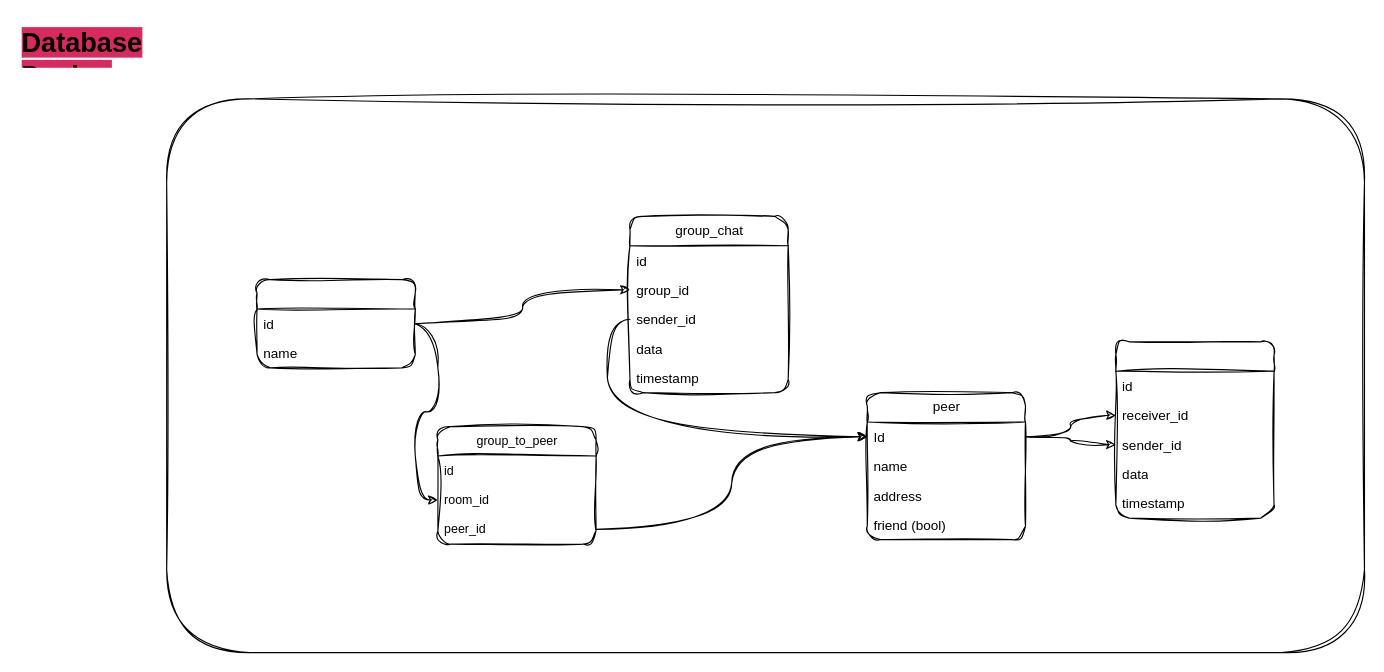
The diagram is 1384 pixels wide and 672 high, and some of its shapes have lost their labels. The shapes that lost their labels are listed below. From the top down, each one's box as (x1, y1, x2, y2) in pixels, then its label:
(256, 279, 415, 368): group
(1115, 341, 1274, 518): chat
